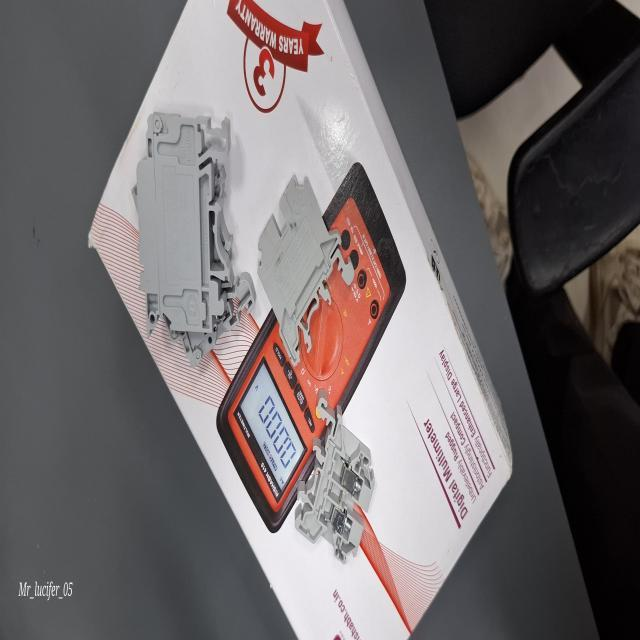Inverted: (239, 169, 358, 369)
Pass: (291, 381, 378, 570)
